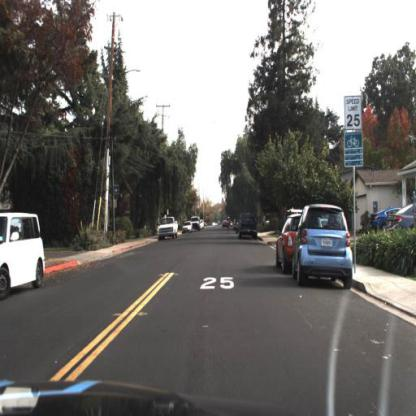biker: (224, 209, 234, 240)
car: (288, 201, 356, 293), (1, 207, 55, 307), (292, 203, 354, 289), (275, 207, 302, 275), (275, 206, 298, 283), (370, 206, 399, 236), (237, 214, 259, 241), (158, 217, 181, 241), (181, 220, 196, 236), (192, 215, 202, 234)
